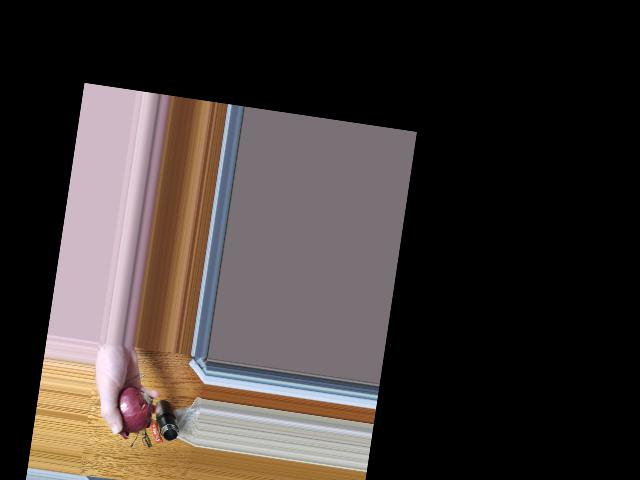onion: (111, 388, 151, 433)
